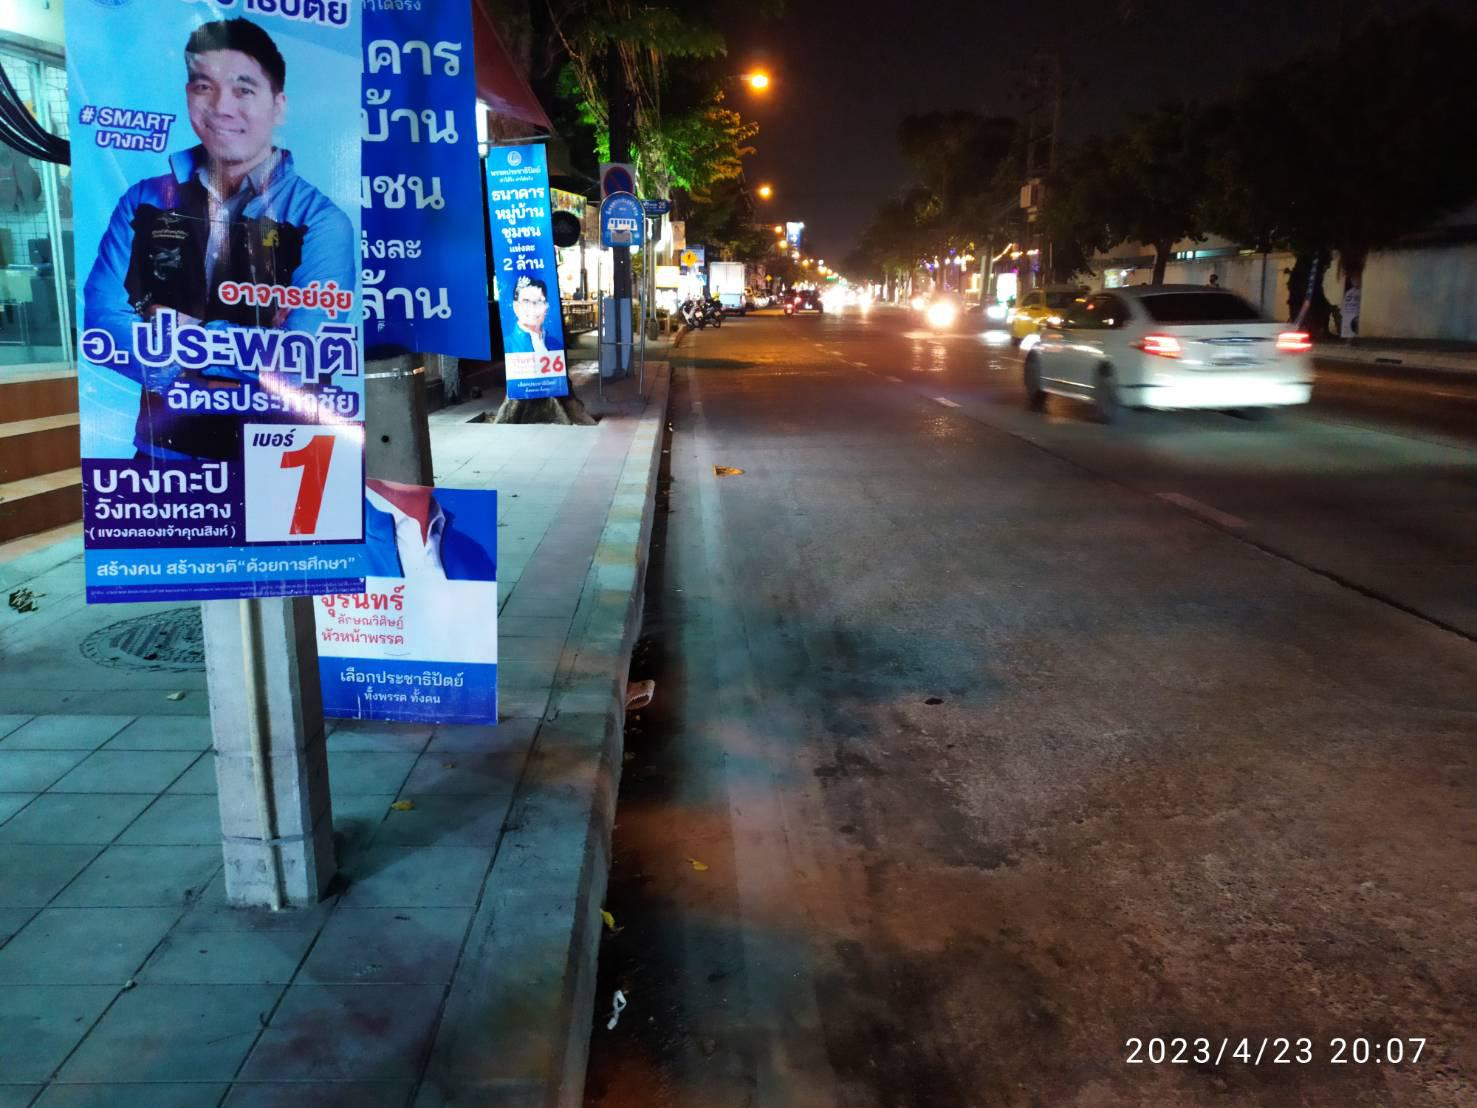Banner: (64, 1, 356, 594), (363, 1, 487, 356), (315, 491, 497, 724), (482, 140, 571, 402)
